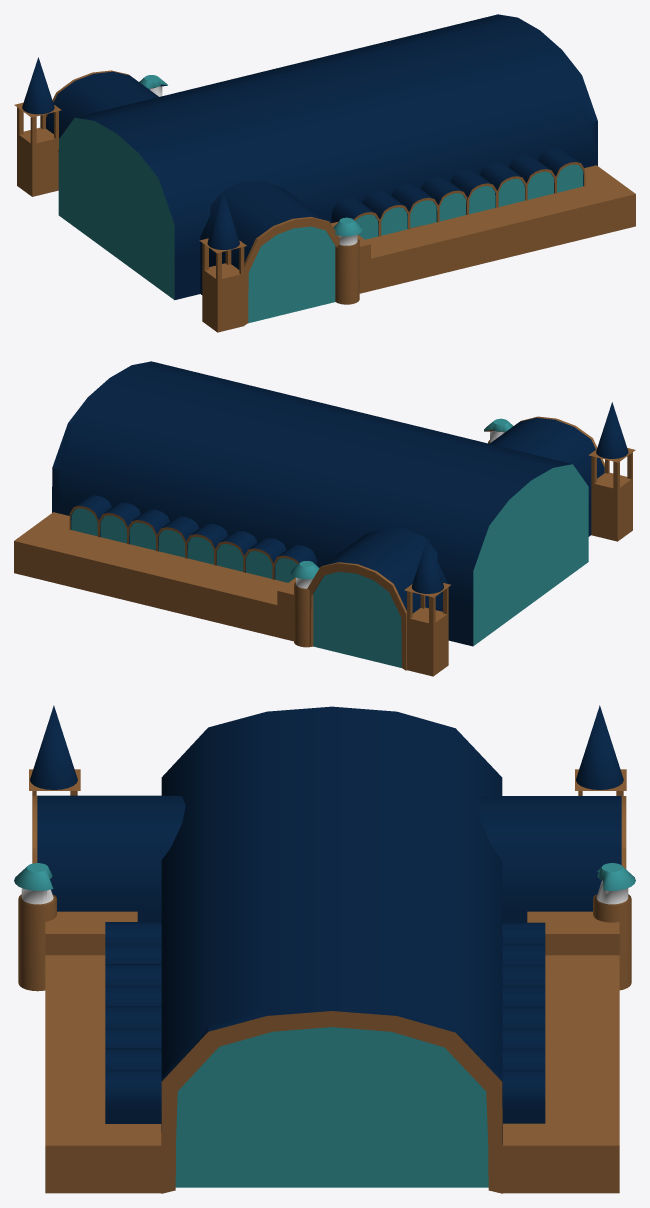
The model's file is Hamburg Hauptbahnhof.fbx.
3 views of the same model, one above another, from view 1: azimuth 30°, elevation 25°; view 2: azimuth 150°, elevation 25°; view 3: azimuth 270°, elevation 25° (orthographic). The views are drawn at different scales.
Parts seen in each view (by area): view 1: pCylinder1, pCube2, pCylinder6, pCone2, pCone3, pCylinder4, pCylinder24, pCylinder16, pCylinder19, pCylinder18, pCylinder20, pCylinder17 (+3 smaller); view 2: pCylinder1, pCube3, pCylinder4, pCone3, pCone2, pCylinder6, pCylinder25, pCylinder10, pCylinder15, pCylinder9, pCylinder11, pCylinder13 (+3 smaller); view 3: pCylinder1, pCube3, pCube2, pCylinder6, pCylinder4, pCylinder24, pCylinder16, pCylinder25, pCone2, pCone3, pCylinder15, pCylinder17 (+13 smaller).
Boxes of the visible parts, x1,y1,x2,y2 form: pCylinder1: (58,14,597,300); pCube2: (331,165,635,293); pCylinder6: (200,181,339,325); pCone2: (199,193,246,332); pCone3: (14,57,61,196); pCylinder4: (46,70,158,152); pCylinder24: (333,217,362,304); pCylinder16: (538,148,585,193); pCylinder19: (450,169,497,214); pCylinder18: (479,162,526,207); pCylinder20: (420,176,467,221); pCylinder17: (509,155,555,200); pCylinder1: (52,361,588,646); pCube3: (14,512,295,641); pCylinder4: (307,527,447,670); pCone3: (404,537,450,676); pCone2: (588,402,635,541); pCylinder6: (490,416,604,536); pCylinder25: (290,561,319,647); pCylinder10: (186,523,228,565); pCylinder15: (69,495,111,536); pCylinder9: (244,538,286,579); pCylinder11: (215,531,257,572); pCylinder13: (128,509,169,551); pCylinder1: (161,706,502,1193); pCube3: (503,911,619,1193); pCube2: (45,911,161,1193); pCylinder6: (32,795,185,921); pCylinder4: (477,796,626,922); pCylinder24: (14,863,56,991); pCylinder16: (105,1069,161,1123); pCylinder25: (593,863,635,990); pCone2: (29,705,80,863); pCone3: (575,705,626,795); pCylinder15: (502,1069,545,1123); pCylinder17: (105,1048,161,1069).
Size of the model in its own units: 46480 by 13735 by 39890.
